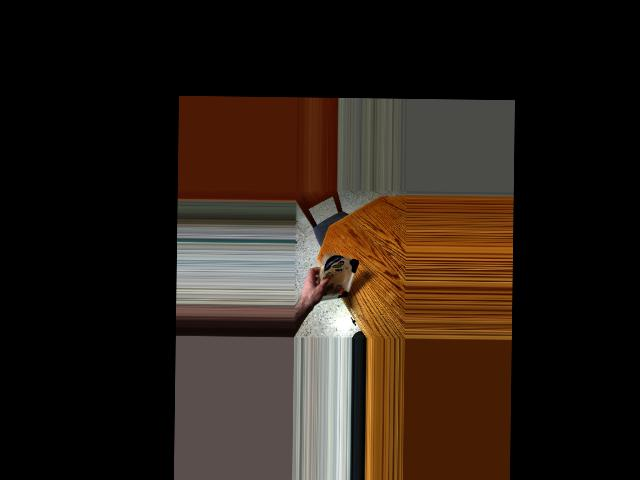cheese: (318, 251, 354, 303)
